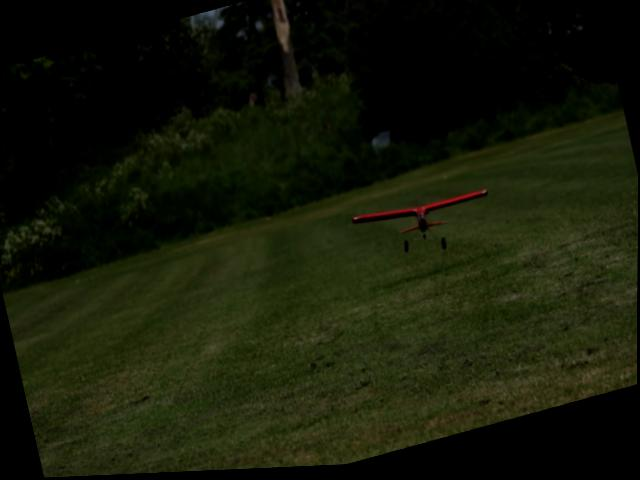plane: (349, 184, 497, 276)
